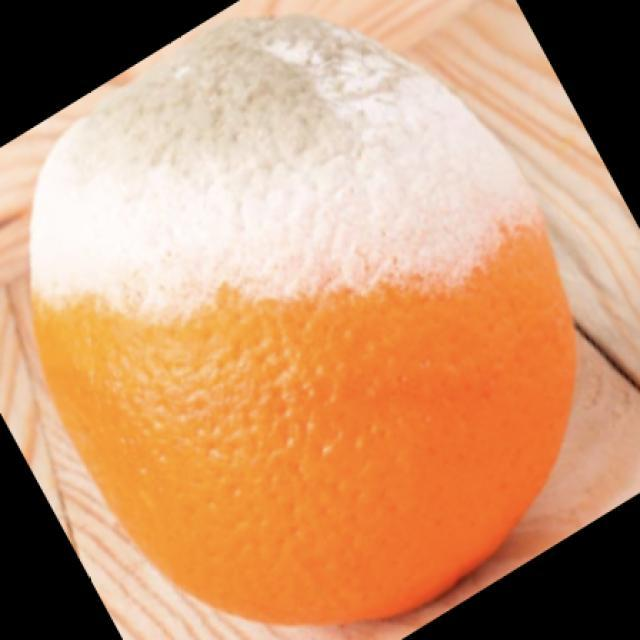sangat-busuk: (31, 19, 574, 624), (30, 19, 536, 313)
